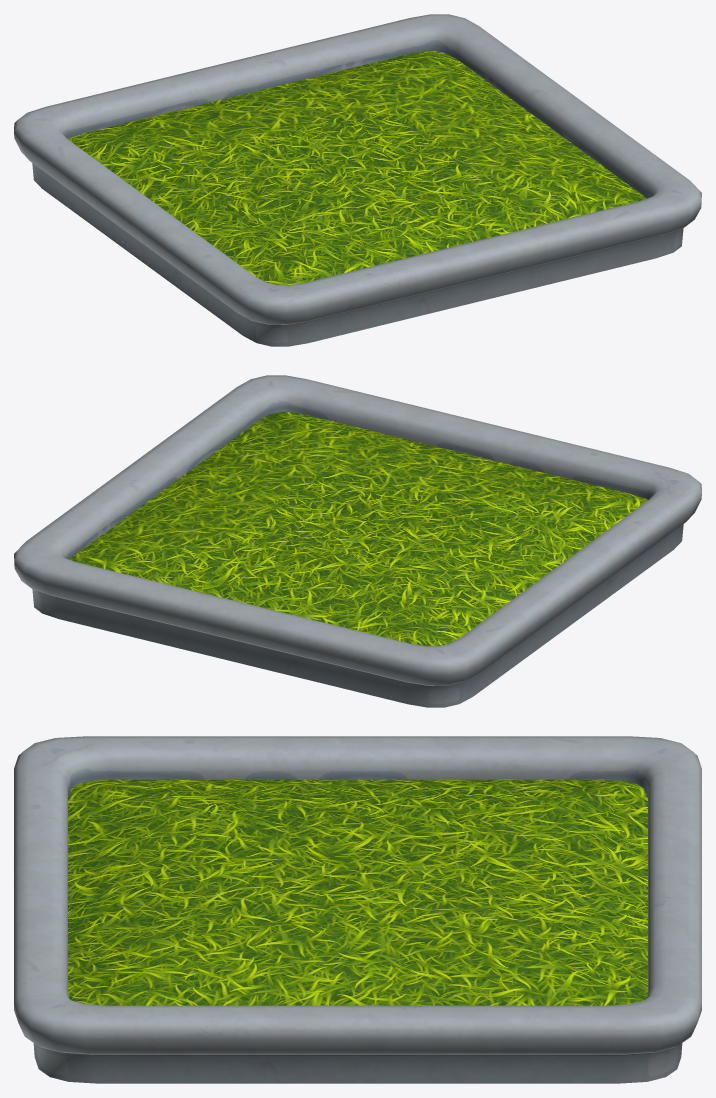
File: StreetPlanter01_3.FBX
The picture shows the model from 3 angles, top to bottom: view 1: azimuth 30°, elevation 25°; view 2: azimuth 150°, elevation 25°; view 3: azimuth 270°, elevation 25°; orthographic projection. The views are drawn at different scales.
Parts seen in each view (by area): view 1: StreetPlanter01_3; view 2: StreetPlanter01_3; view 3: StreetPlanter01_3.
Part boxes in pixels (x1,y1,x2,y2): StreetPlanter01_3: (14,14,701,346); StreetPlanter01_3: (14,375,701,707); StreetPlanter01_3: (14,736,701,1083).
Size of what is drawn, in the model's own units: 1.68 by 0.1863 by 1.68.
